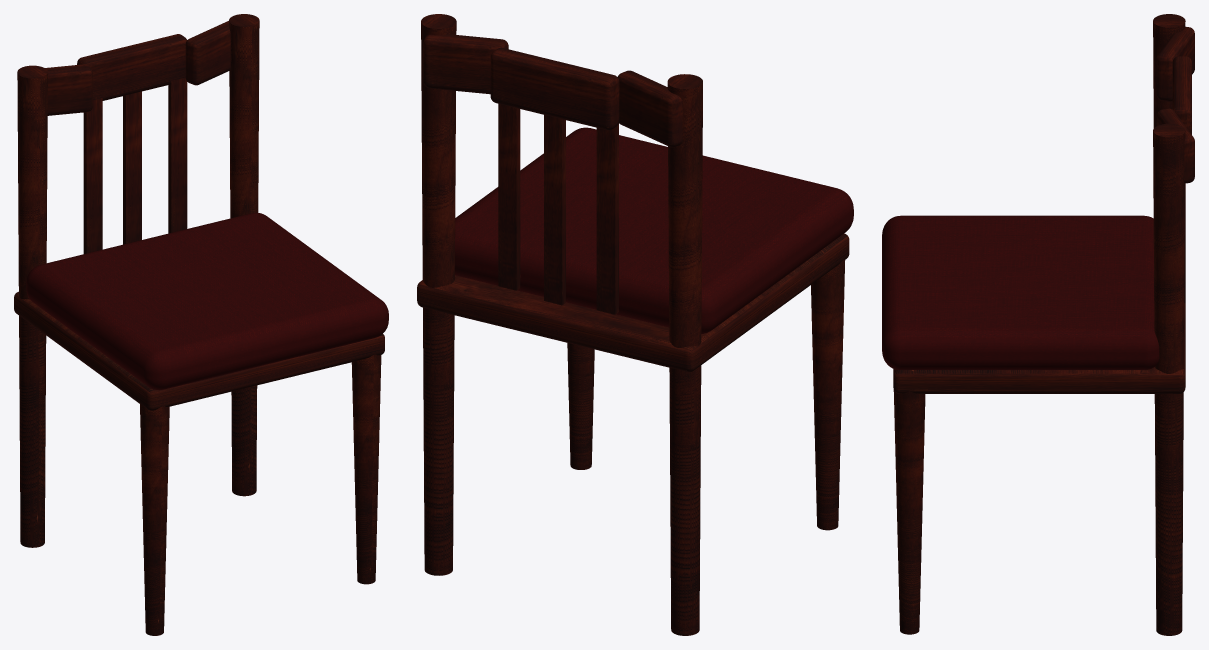
Rendered from state-default.glb.
3 views of the same model, side by side, from view 1: azimuth 30°, elevation 25°; view 2: azimuth 150°, elevation 25°; view 3: azimuth 270°, elevation 25° (orthographic). The views are drawn at different scales.
Visible parts, largest first — view 1: assetPrim:80c4a613fb7268-19c73c9ac7a:seat-cushion, assetPrim:80c4a613fb7268-19c73c9ac7a:leg-rr, assetPrim:80c4a613fb7268-19c73c9ac7a:leg-rl, assetPrim:80c4a613fb7268-19c73c9ac7a:seat-frame, assetPrim:80c4a613fb7268-19c73c9ac7a:leg-fr, assetPrim:80c4a613fb7268-19c73c9ac7a:leg-fl, assetPrim:80c4a613fb7268-19c73c9ac7a:back-rail-center, assetPrim:80c4a613fb7268-19c73c9ac7a:slat-3, assetPrim:80c4a613fb7268-19c73c9ac7a:slat-1, assetPrim:80c4a613fb7268-19c73c9ac7a:slat-2, assetPrim:80c4a613fb7268-19c73c9ac7a:back-rail-left, assetPrim:80c4a613fb7268-19c73c9ac7a:back-rail-right; view 2: assetPrim:80c4a613fb7268-19c73c9ac7a:seat-cushion, assetPrim:80c4a613fb7268-19c73c9ac7a:leg-rr, assetPrim:80c4a613fb7268-19c73c9ac7a:leg-rl, assetPrim:80c4a613fb7268-19c73c9ac7a:seat-frame, assetPrim:80c4a613fb7268-19c73c9ac7a:back-rail-center, assetPrim:80c4a613fb7268-19c73c9ac7a:leg-fr, assetPrim:80c4a613fb7268-19c73c9ac7a:slat-1, assetPrim:80c4a613fb7268-19c73c9ac7a:slat-3, assetPrim:80c4a613fb7268-19c73c9ac7a:slat-2, assetPrim:80c4a613fb7268-19c73c9ac7a:back-rail-left, assetPrim:80c4a613fb7268-19c73c9ac7a:back-rail-right, assetPrim:80c4a613fb7268-19c73c9ac7a:leg-fl; view 3: assetPrim:80c4a613fb7268-19c73c9ac7a:seat-cushion, assetPrim:80c4a613fb7268-19c73c9ac7a:leg-rl, assetPrim:80c4a613fb7268-19c73c9ac7a:seat-frame, assetPrim:80c4a613fb7268-19c73c9ac7a:leg-fl, assetPrim:80c4a613fb7268-19c73c9ac7a:back-rail-right, assetPrim:80c4a613fb7268-19c73c9ac7a:leg-rr, assetPrim:80c4a613fb7268-19c73c9ac7a:back-rail-center, assetPrim:80c4a613fb7268-19c73c9ac7a:back-rail-left.
Boxes of the visible parts, x1,y1,x2,y2 form: assetPrim:80c4a613fb7268-19c73c9ac7a:seat-cushion: [26, 212, 388, 390]; assetPrim:80c4a613fb7268-19c73c9ac7a:leg-rr: [17, 65, 47, 547]; assetPrim:80c4a613fb7268-19c73c9ac7a:leg-rl: [229, 14, 259, 496]; assetPrim:80c4a613fb7268-19c73c9ac7a:seat-frame: [14, 291, 384, 410]; assetPrim:80c4a613fb7268-19c73c9ac7a:leg-fr: [140, 404, 169, 635]; assetPrim:80c4a613fb7268-19c73c9ac7a:leg-fl: [351, 354, 381, 584]; assetPrim:80c4a613fb7268-19c73c9ac7a:back-rail-center: [77, 34, 186, 100]; assetPrim:80c4a613fb7268-19c73c9ac7a:slat-3: [168, 77, 187, 233]; assetPrim:80c4a613fb7268-19c73c9ac7a:slat-1: [83, 98, 102, 253]; assetPrim:80c4a613fb7268-19c73c9ac7a:slat-2: [123, 91, 141, 244]; assetPrim:80c4a613fb7268-19c73c9ac7a:back-rail-left: [185, 21, 230, 85]; assetPrim:80c4a613fb7268-19c73c9ac7a:back-rail-right: [45, 64, 92, 115]; assetPrim:80c4a613fb7268-19c73c9ac7a:seat-cushion: [455, 127, 853, 333]; assetPrim:80c4a613fb7268-19c73c9ac7a:leg-rr: [667, 74, 702, 635]; assetPrim:80c4a613fb7268-19c73c9ac7a:leg-rl: [421, 14, 456, 575]; assetPrim:80c4a613fb7268-19c73c9ac7a:seat-frame: [417, 233, 849, 372]; assetPrim:80c4a613fb7268-19c73c9ac7a:back-rail-center: [490, 47, 619, 130]; assetPrim:80c4a613fb7268-19c73c9ac7a:leg-fr: [811, 260, 845, 530]; assetPrim:80c4a613fb7268-19c73c9ac7a:slat-1: [596, 123, 618, 314]; assetPrim:80c4a613fb7268-19c73c9ac7a:slat-3: [498, 103, 520, 290]; assetPrim:80c4a613fb7268-19c73c9ac7a:slat-2: [544, 115, 565, 305]; assetPrim:80c4a613fb7268-19c73c9ac7a:back-rail-left: [423, 34, 508, 94]; assetPrim:80c4a613fb7268-19c73c9ac7a:back-rail-right: [617, 70, 682, 147]; assetPrim:80c4a613fb7268-19c73c9ac7a:leg-fl: [567, 343, 594, 469]; assetPrim:80c4a613fb7268-19c73c9ac7a:seat-cushion: [882, 215, 1159, 369]; assetPrim:80c4a613fb7268-19c73c9ac7a:leg-rl: [1153, 123, 1185, 635]; assetPrim:80c4a613fb7268-19c73c9ac7a:seat-frame: [893, 303, 1185, 393]; assetPrim:80c4a613fb7268-19c73c9ac7a:leg-fl: [893, 390, 925, 634]; assetPrim:80c4a613fb7268-19c73c9ac7a:back-rail-right: [1156, 26, 1194, 101]; assetPrim:80c4a613fb7268-19c73c9ac7a:leg-rr: [1153, 14, 1185, 128]; assetPrim:80c4a613fb7268-19c73c9ac7a:back-rail-center: [1172, 56, 1191, 134]; assetPrim:80c4a613fb7268-19c73c9ac7a:back-rail-left: [1156, 108, 1194, 183].
Bounding box in the file's own units: 0.46 × 0.85 × 0.4821.
12 materials, 12 textured.
